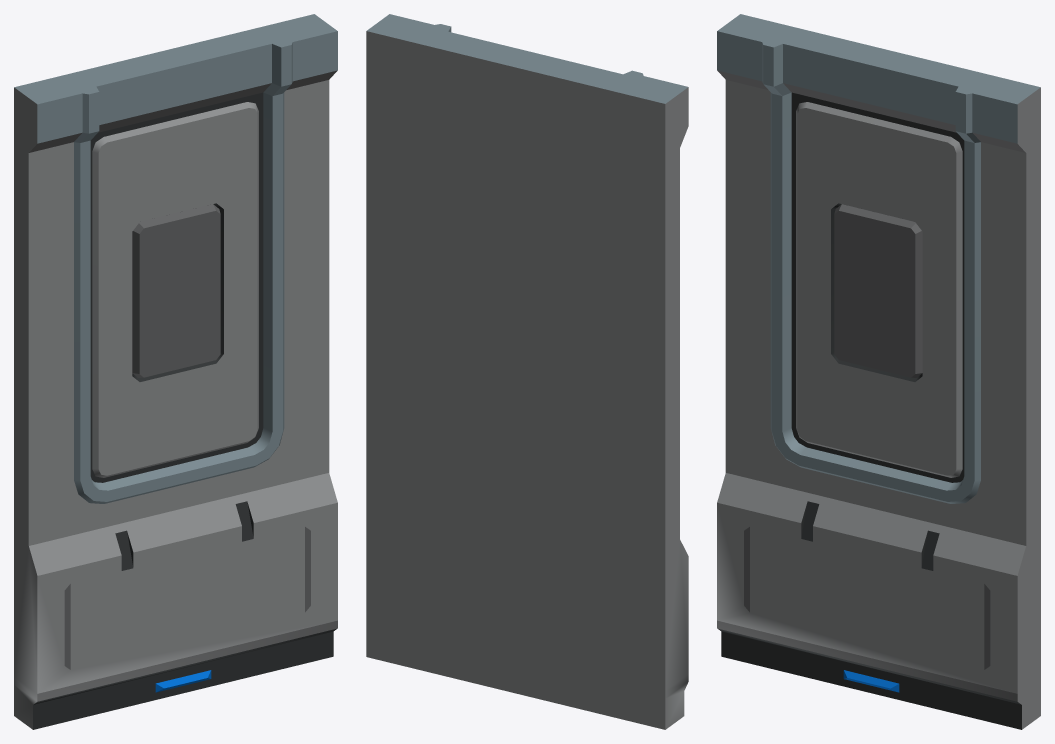
File: Wall_type_B_020.fbx
3 renders of one model, left to right at view 1: azimuth 30°, elevation 25°; view 2: azimuth 150°, elevation 25°; view 3: azimuth 330°, elevation 25°, orthographic.
Visible parts, largest first — view 1: Wall_type_B_020; view 2: Wall_type_B_020; view 3: Wall_type_B_020.
Part boxes in pixels (x1=…): Wall_type_B_020: x1=14, y1=14, x2=337, y2=729; Wall_type_B_020: x1=366, y1=14, x2=688, y2=729; Wall_type_B_020: x1=717, y1=14, x2=1040, y2=729.
Size of the model in its own units: 200 by 29.98 by 400.
